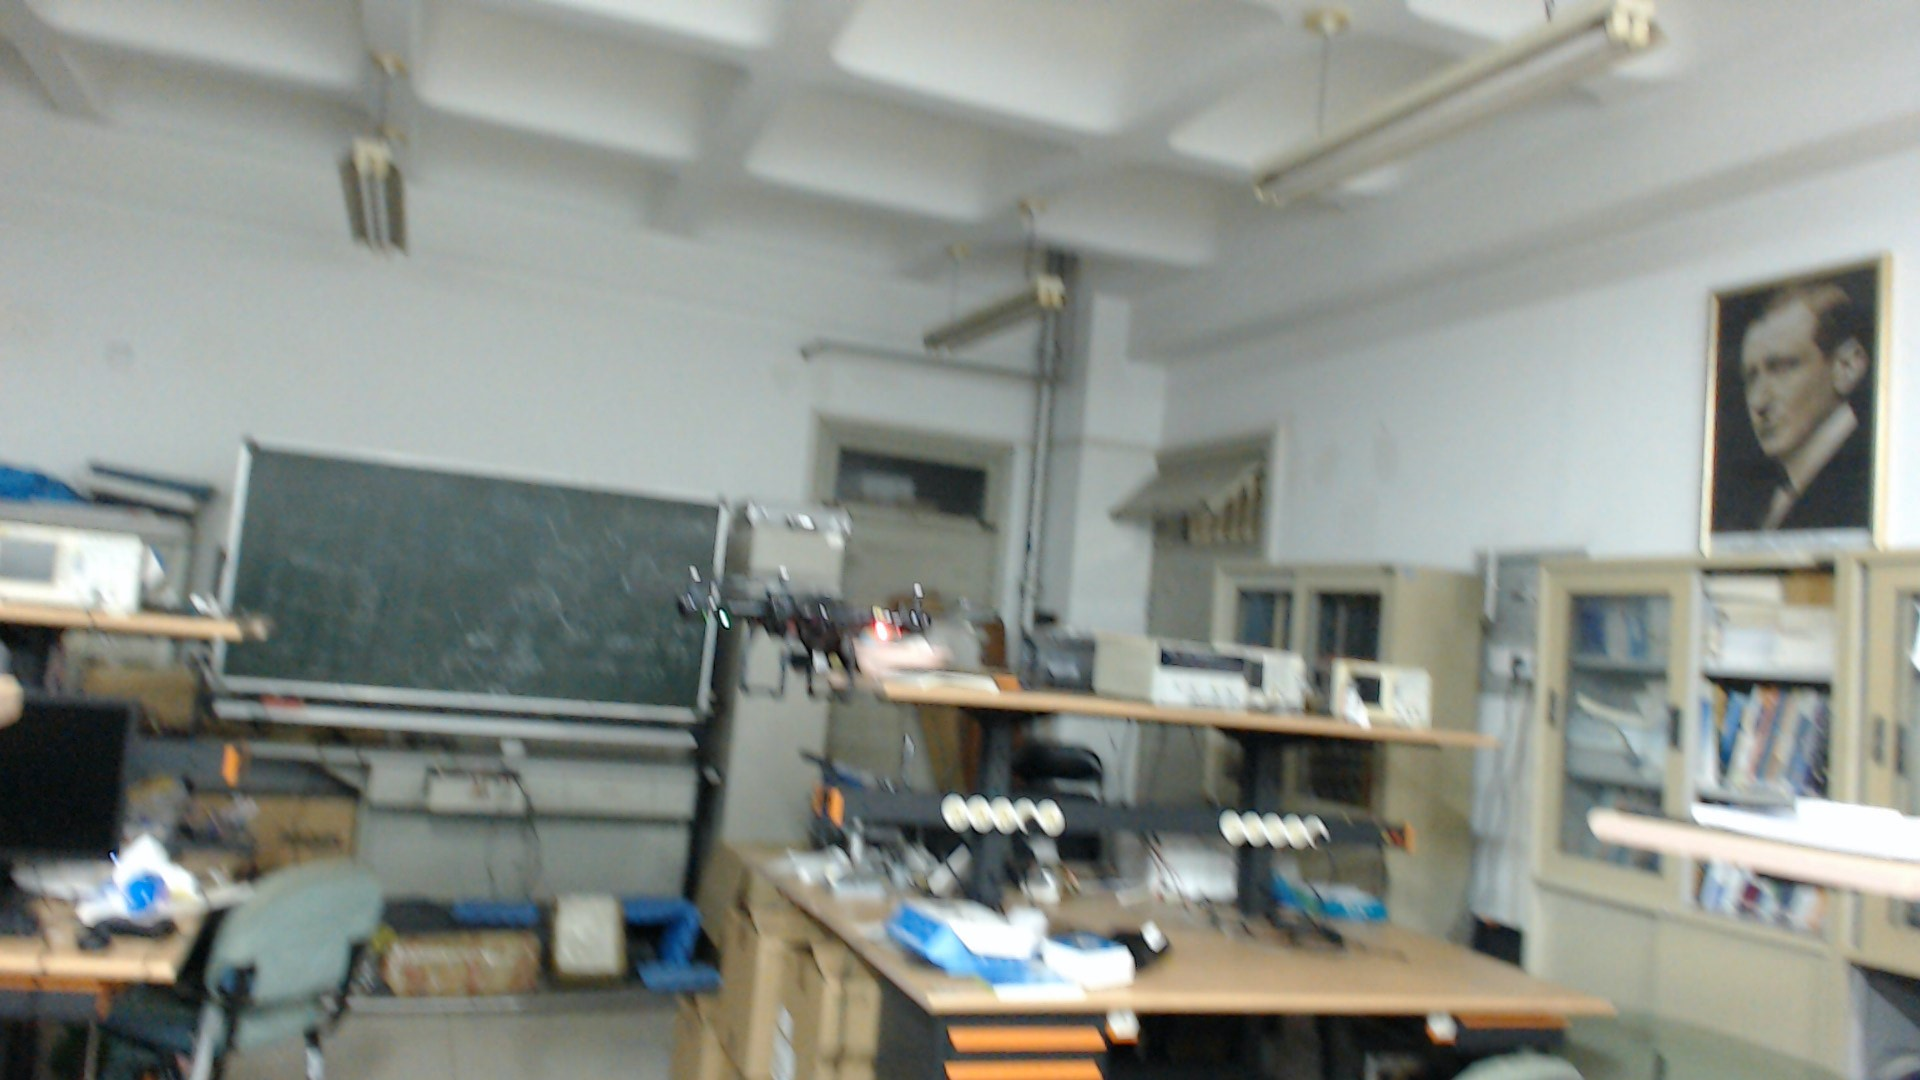drone: (673, 572, 934, 709)
